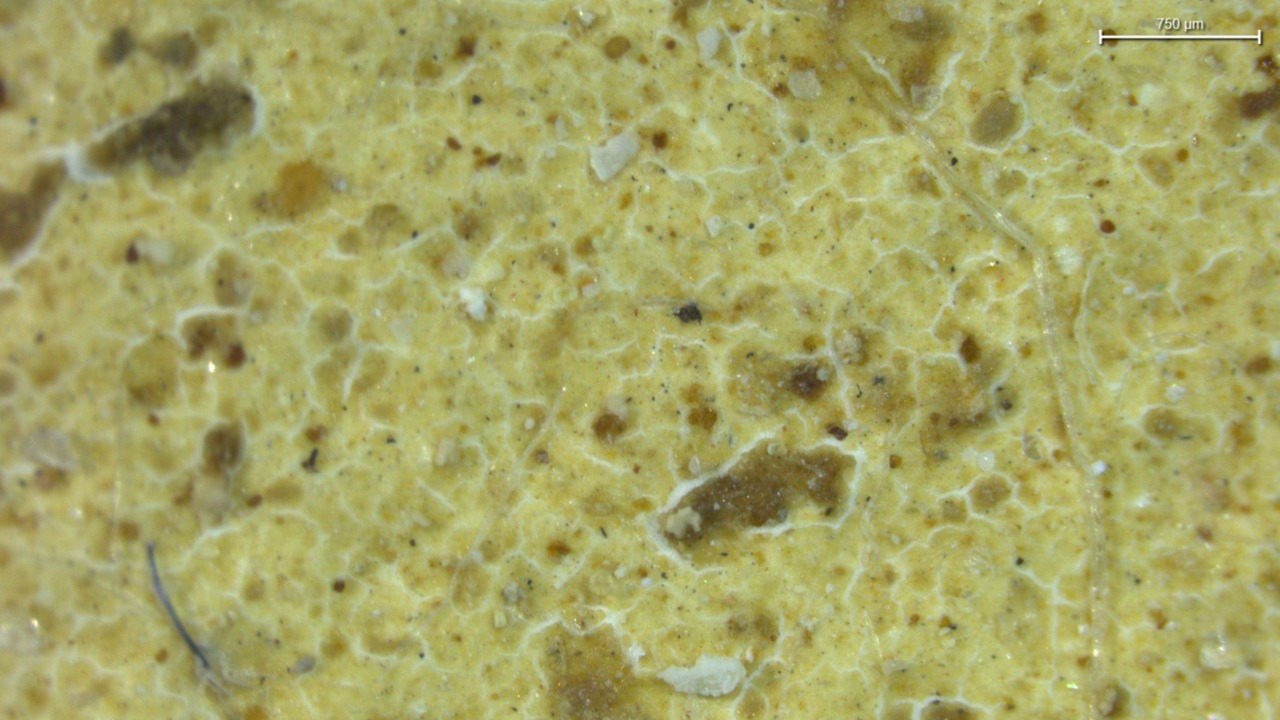microplastic_fragment: (658, 654, 746, 696), (590, 131, 640, 181)
